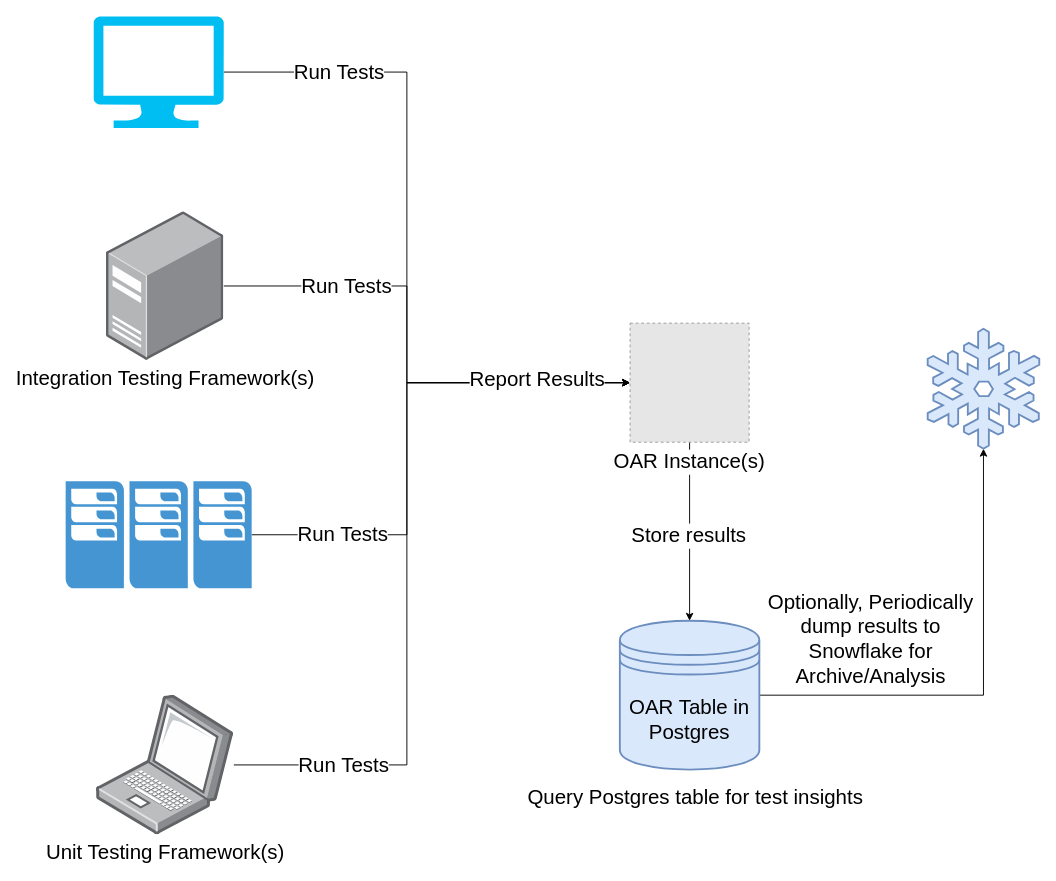
This 1056x881 diagram has some shape labels left out. Grey dashed boxes stand in for pictures. The shapes that lost their labels are listed below. From the top down, each one's centre as x and y in pixels, then its label:
At point (158, 71): "UI Testing Framework(s)".
At point (158, 534): "Load Testing Framework(s)".
